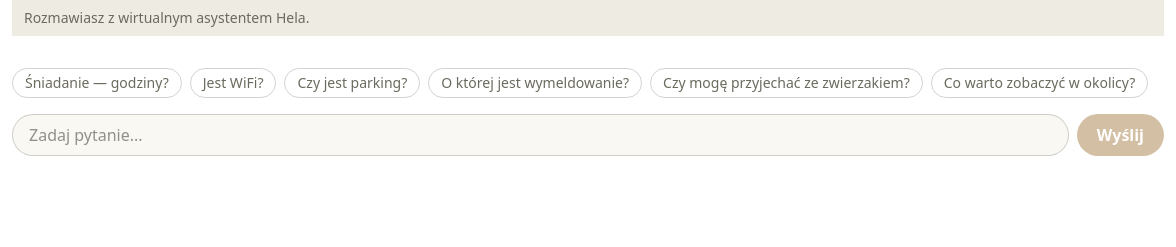
Test: ConciergeChat › renders the escalation bubble (not the fallback bubble) for [ESCALATE]-prefixed text
Type "Mam reklamację, brudny pokój" into the field with placeholder "Zadaj pytanie..." at (540, 135), box [12,114,1069,156]
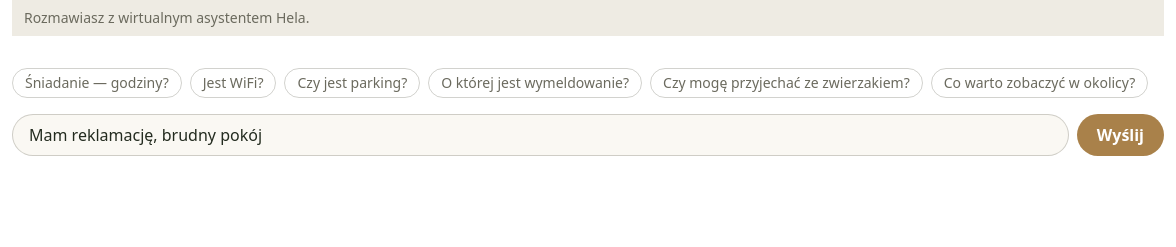
Click the button "Wyślij" at (1120, 135), box [1077,114,1164,156]
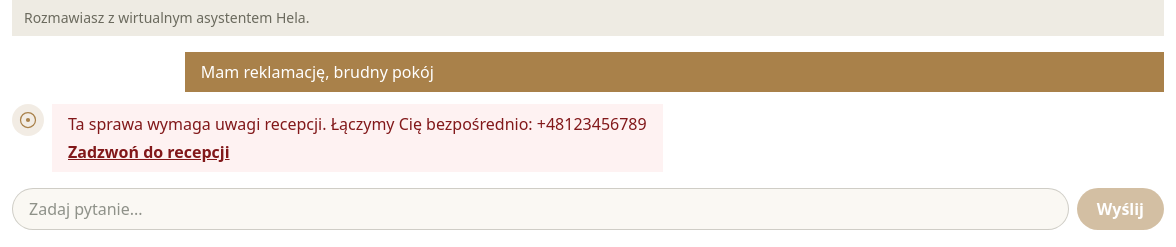
Now the text "Ta sprawa wymaga uwagi recepcji. Łączymy Cię bezpośrednio: +48123456789" is shown, box [68,112,647,136]
